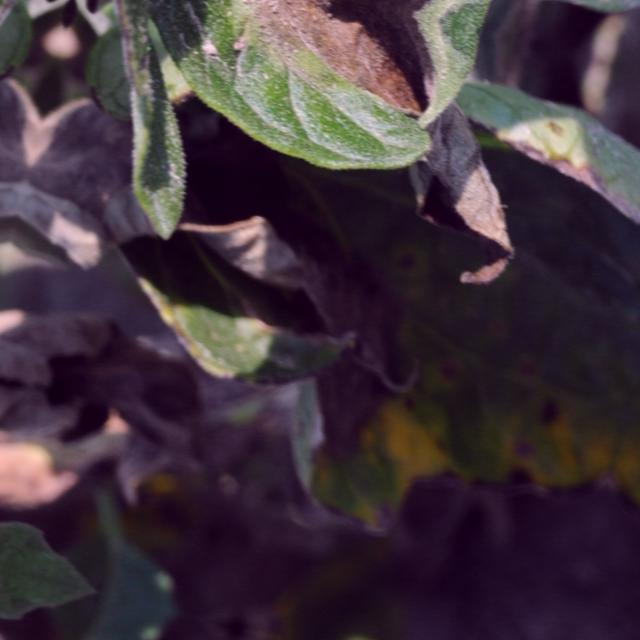Tomato leaf late blight: (38, 0, 537, 246)
